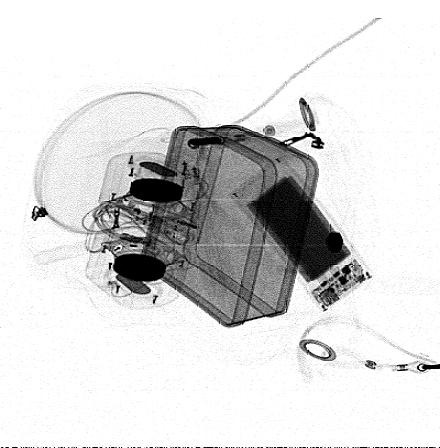Powerbank: (227, 155, 375, 313)
